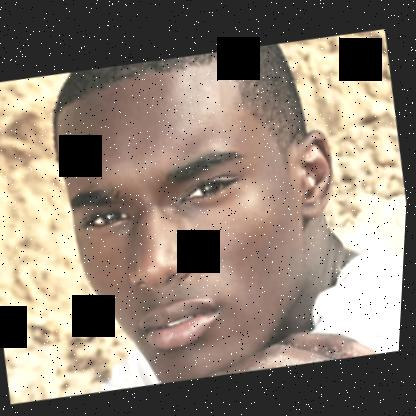Male: (37, 40, 370, 399)
